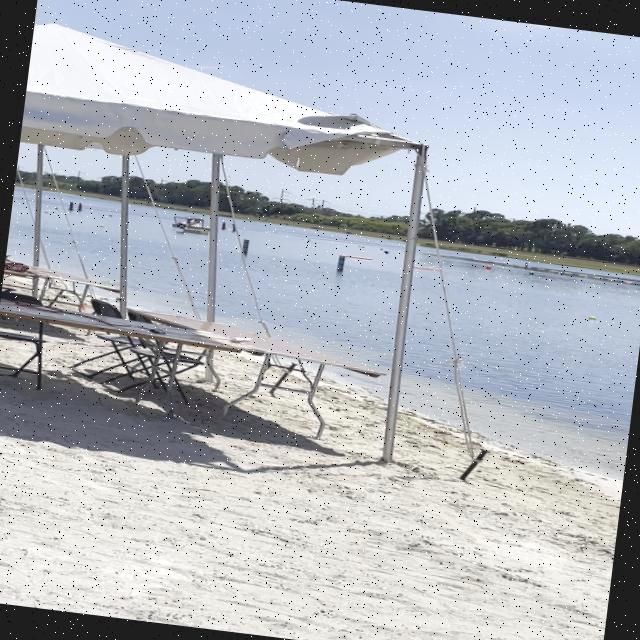buoy: (526, 270, 536, 276), (588, 314, 598, 320), (484, 265, 491, 270), (98, 224, 106, 228), (382, 250, 389, 254), (44, 210, 50, 213)
